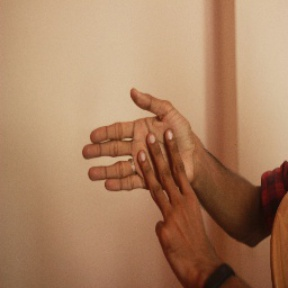M: (80, 87, 199, 237)
